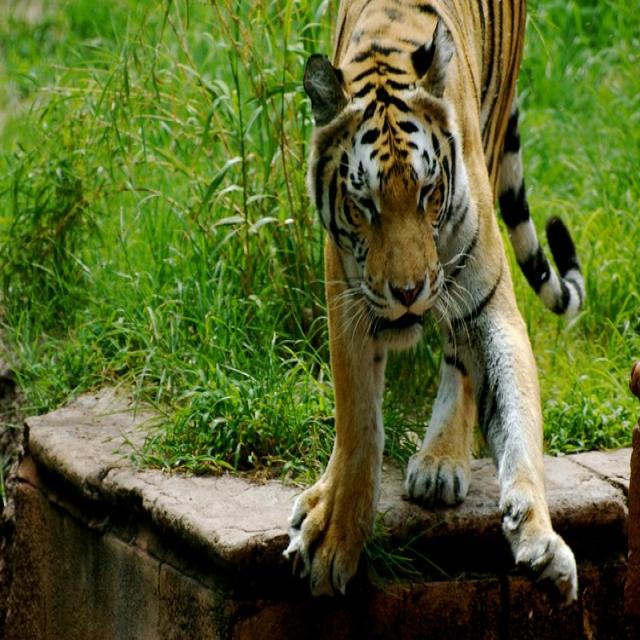Tiger: (296, 0, 586, 610)
